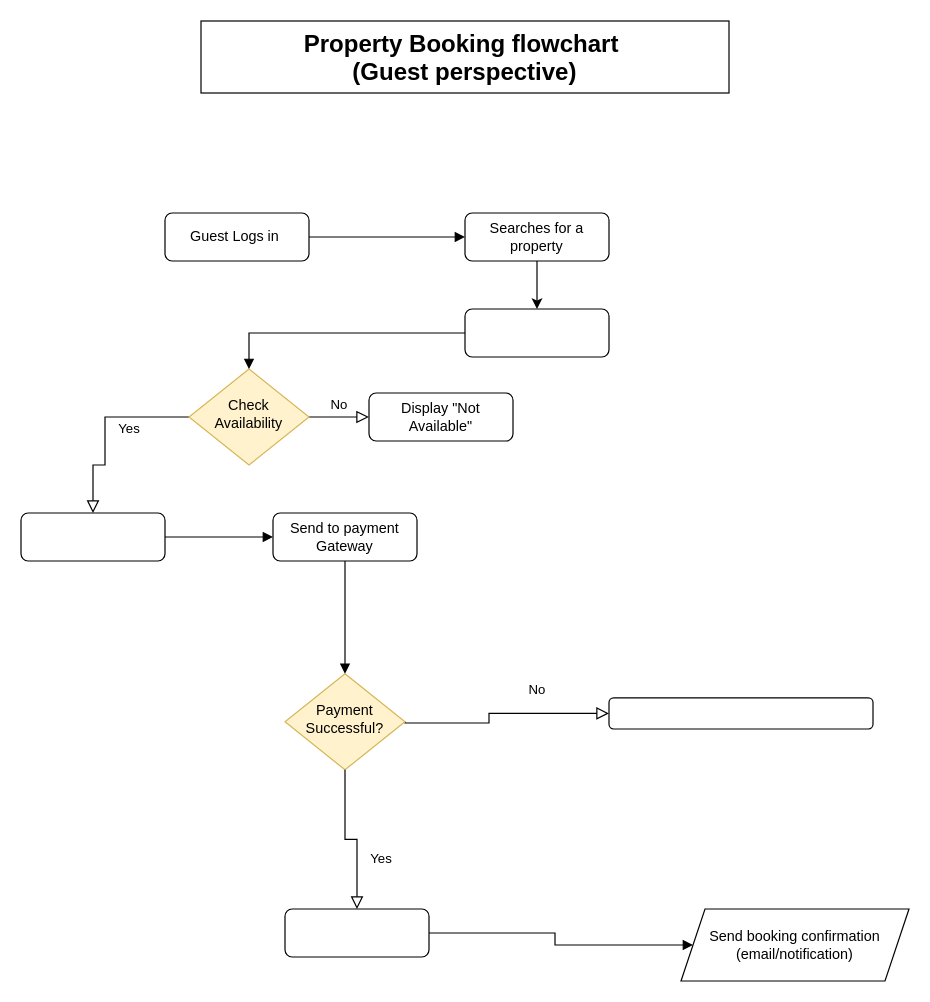
The diagram is 930 pixels wide and 1002 high, and some of its shapes have lost their labels. The box of each missing label's shape, as (x1, y1, x2, y2) in pixels:
Create Booking record in Database: (284, 908, 429, 957)
Display error message: (608, 697, 873, 729)
Enter Payment Details: (20, 512, 165, 561)
Selects Property and desired checkin dates: (464, 308, 609, 357)
